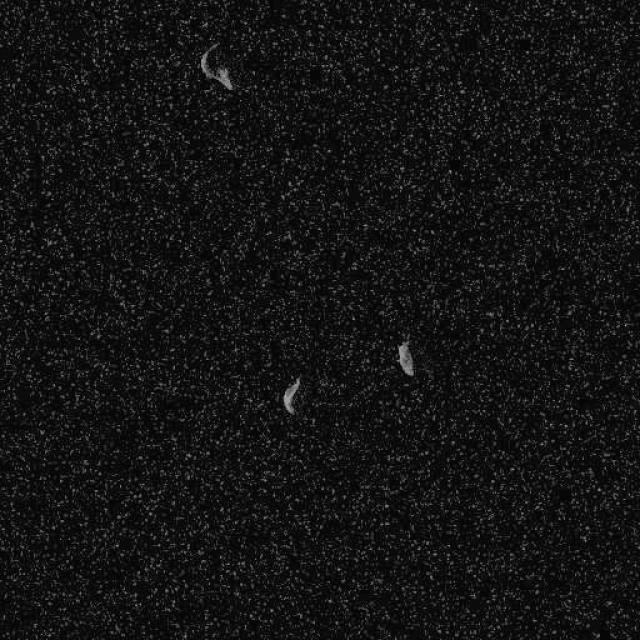D2: (198, 41, 234, 91), (281, 375, 301, 415), (395, 340, 414, 376)
